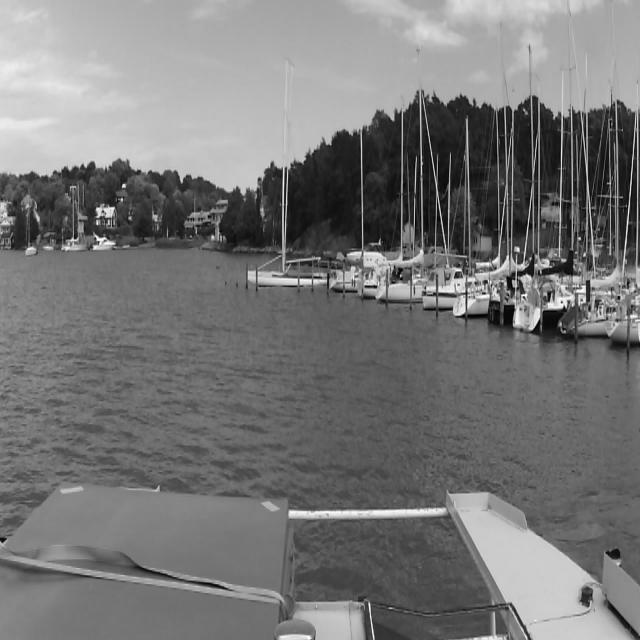ship: (248, 59, 328, 289), (364, 41, 426, 299), (560, 9, 608, 340), (513, 39, 547, 330), (488, 18, 512, 322), (612, 78, 638, 346), (454, 114, 488, 314), (331, 126, 361, 291), (426, 147, 454, 311), (62, 188, 87, 252), (25, 189, 37, 255), (92, 232, 116, 251), (44, 212, 54, 252)
